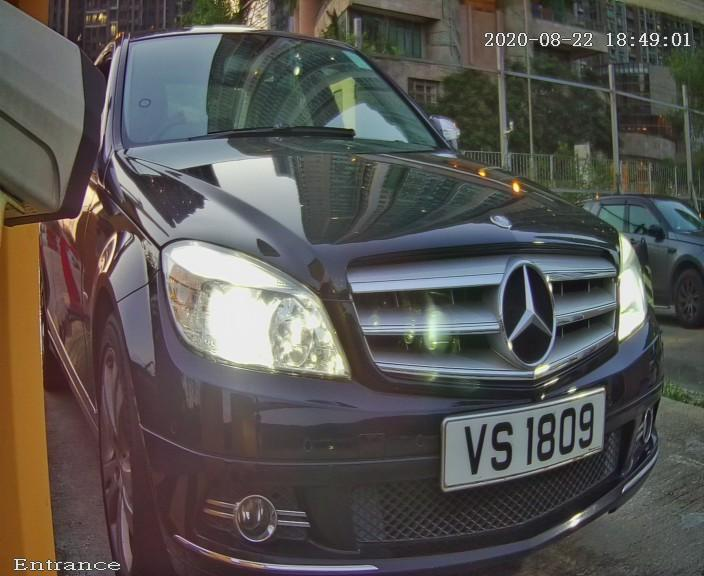Car: (23, 3, 704, 576)
License Plate: (396, 351, 643, 532)
